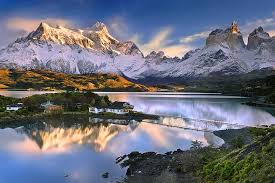lake: (5, 91, 273, 183)
mountain: (14, 28, 270, 94)
